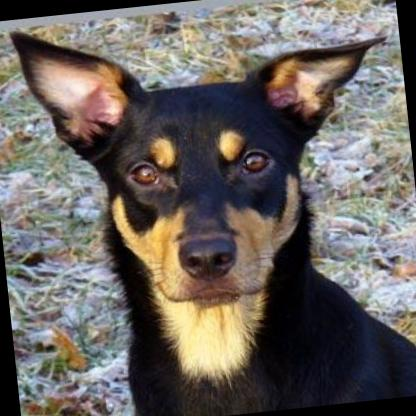kelpie: (4, 0, 416, 416)
